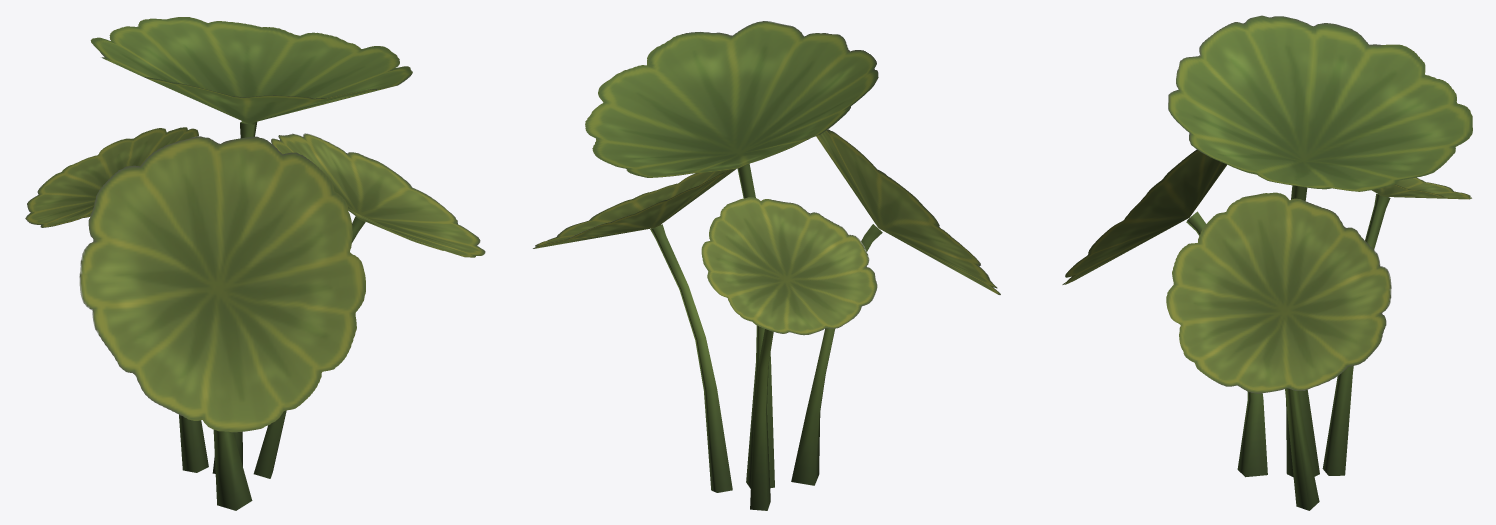
File: Jungle_plant_05.fbx
3 renders of one model, left to right at view 1: azimuth 30°, elevation 25°; view 2: azimuth 150°, elevation 25°; view 3: azimuth 270°, elevation 25°, orthographic. The views are drawn at different scales.
Visible parts, largest first — view 1: Jungle_plant_05; view 2: Jungle_plant_05; view 3: Jungle_plant_05.
Part boxes in pixels (x1=…): Jungle_plant_05: x1=25, y1=17, x2=485, y2=510; Jungle_plant_05: x1=533, y1=21, x2=1000, y2=510; Jungle_plant_05: x1=1062, y1=15, x2=1472, y2=510.
Bounding box in the file's own units: 164 × 160 × 147.
